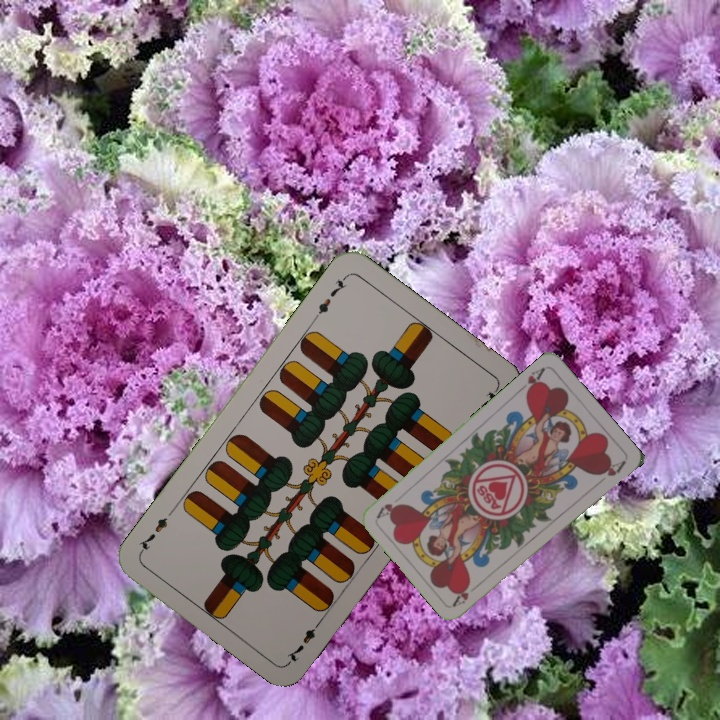E7: (282, 614, 325, 665), (310, 271, 350, 323)
HA: (515, 363, 548, 397), (449, 581, 473, 609)
